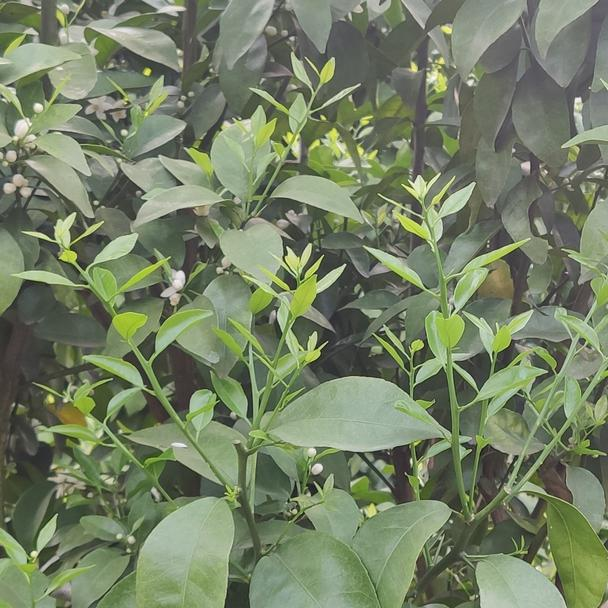shoot: (374, 175, 536, 398), (28, 220, 190, 397), (228, 254, 353, 405), (248, 49, 361, 187)
